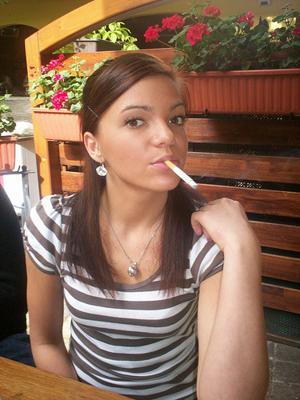person: (21, 46, 274, 400)
